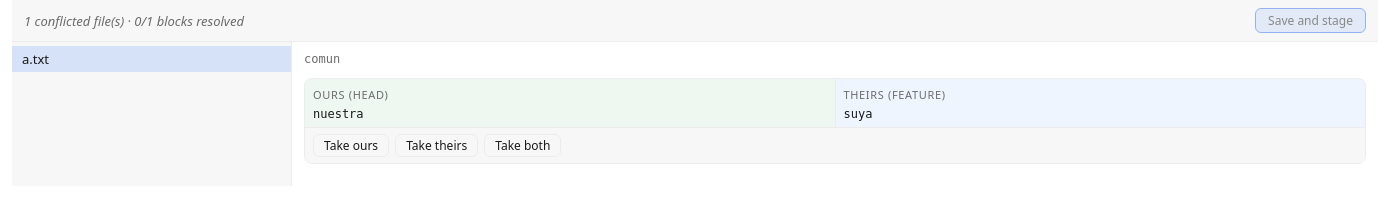
it: ConflictView › allows undoing the choice of a hunk
The width and height of the screenshot is (1378, 203).
Click the button "Take ours".
click(351, 146)  # box [313,134,389,157]
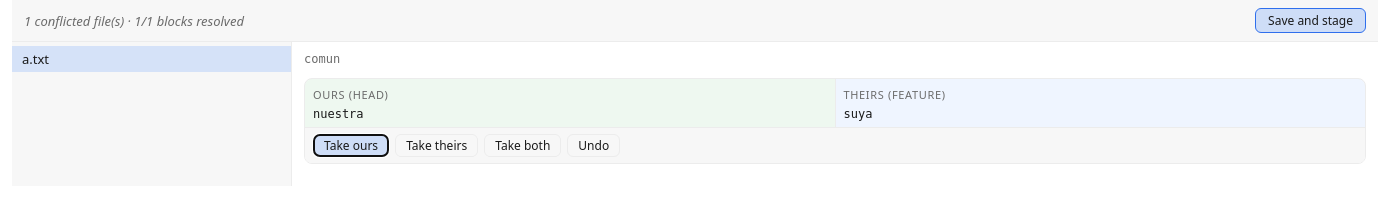
Expected: the button "Save and stage" is enabled, [1255,8,1366,33]
Click the button "Undo".
click(594, 146)  # box [567,134,620,157]
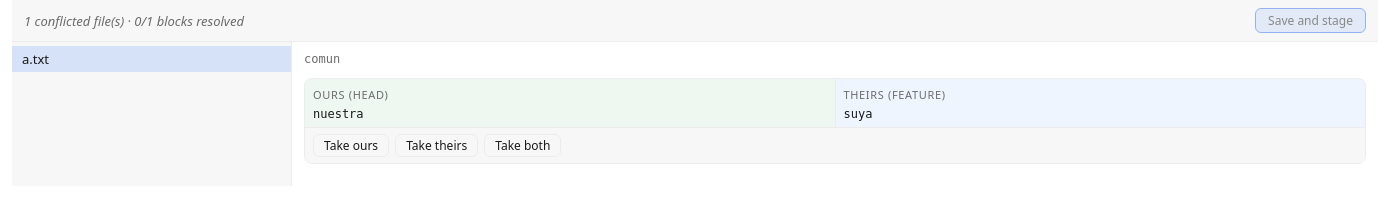
Expected: the button "Save and stage" is disabled, [1255,8,1366,33]
